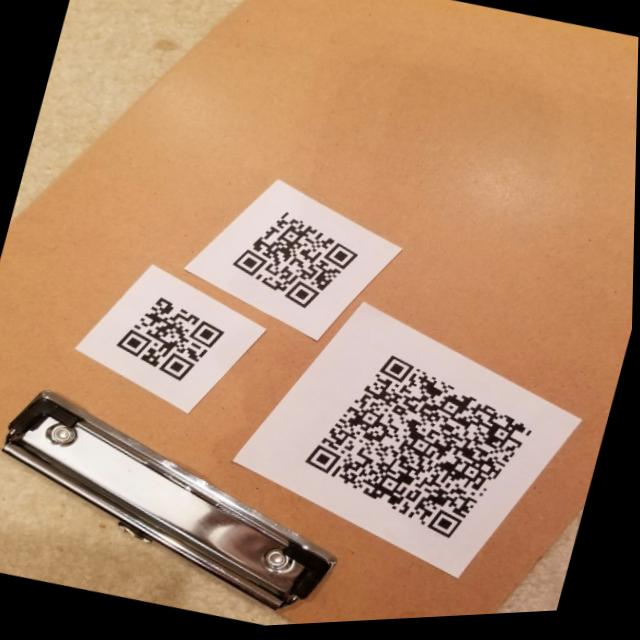QR_CODE: (282, 326, 561, 579), (215, 185, 375, 333), (96, 278, 239, 401)
